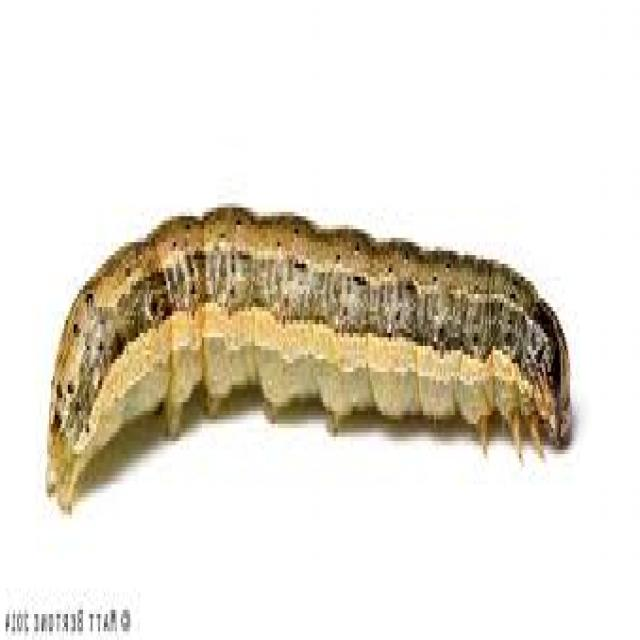armyworm: (46, 211, 573, 508)
